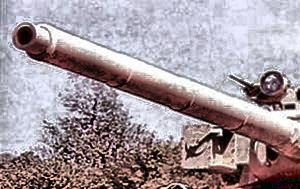tanks: (15, 23, 300, 189), (160, 185, 192, 189)
